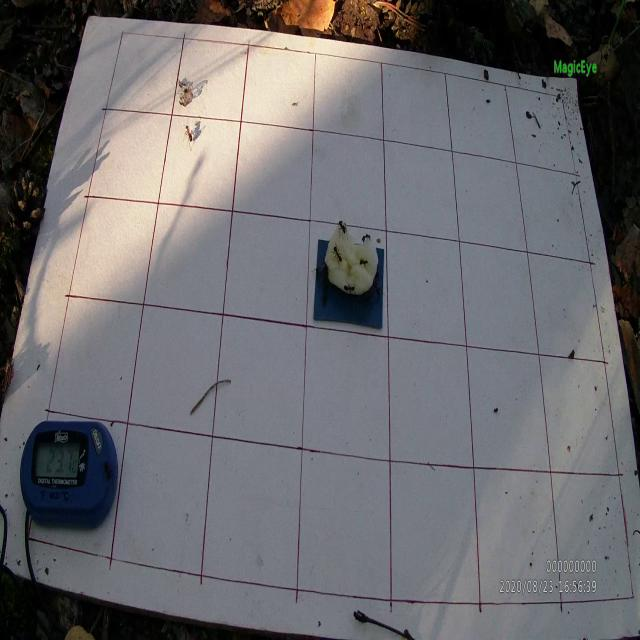Ant: (182, 120, 197, 151), (332, 244, 348, 270), (372, 280, 384, 302), (338, 220, 348, 239), (344, 283, 356, 296), (359, 256, 371, 268), (361, 233, 372, 243)
